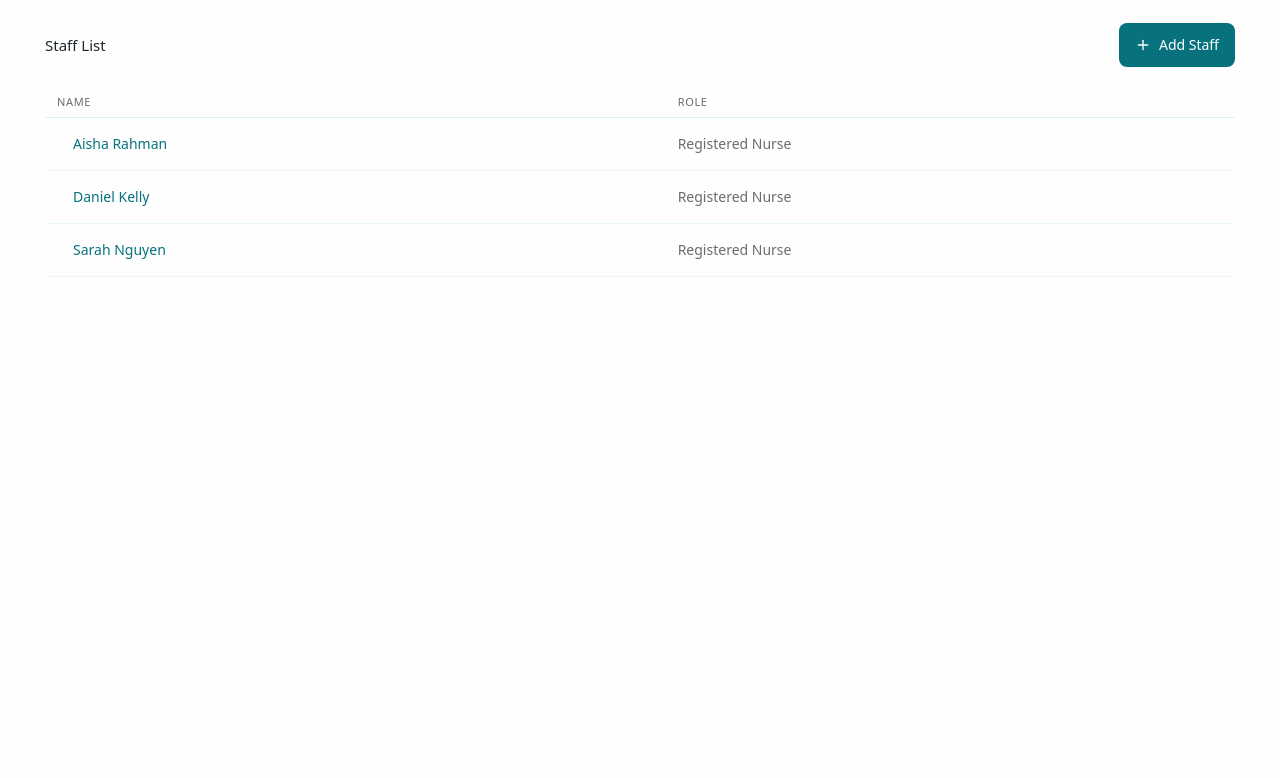
Test case: [ADM-08][AC-04] the carer's Clients list › [ADM-08][AC-04] renders with no assignments at all as the empty state, not an error
What coordinates should you click on to do the following:
click the button with aria-label "Edit Aisha Rahman"
I would click on:
 (120, 144)
Its box is [57,122,183,166].
(page scrolled)
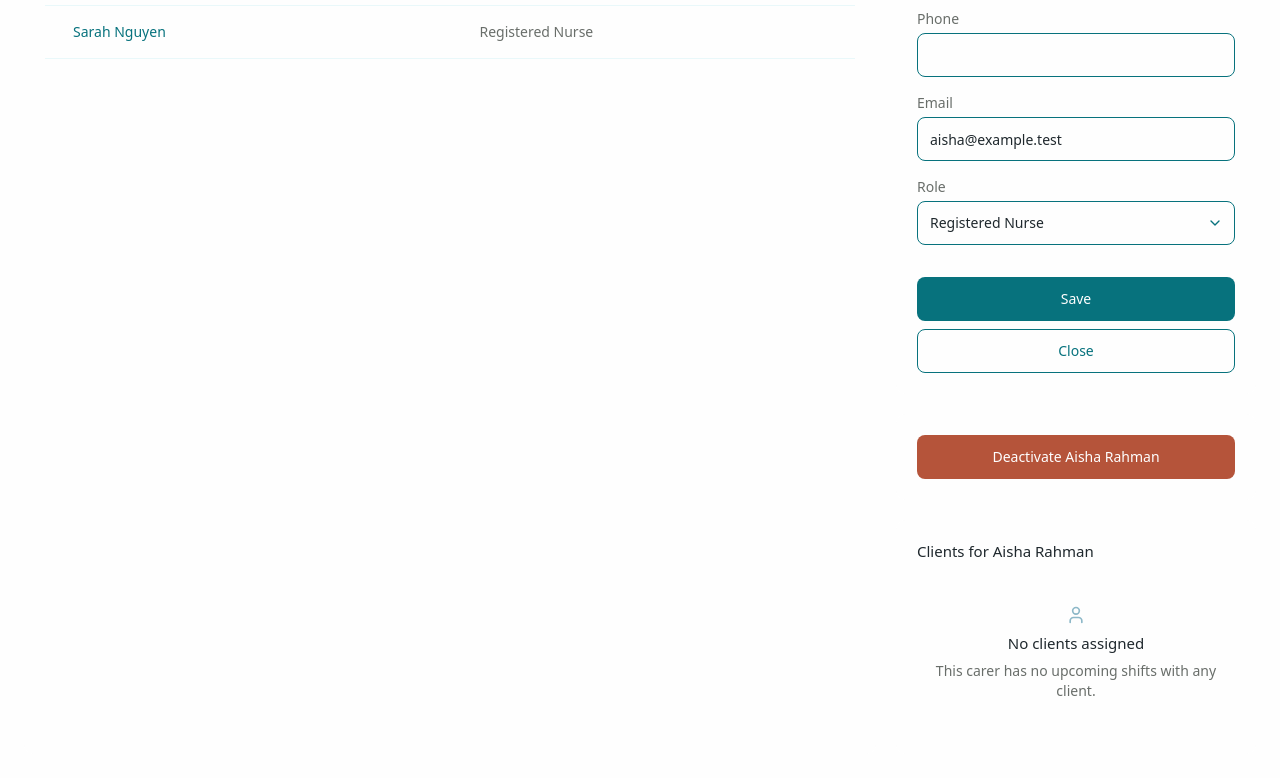
Result: the text "No clients assigned" is shown at [1008,633,1144,653]
